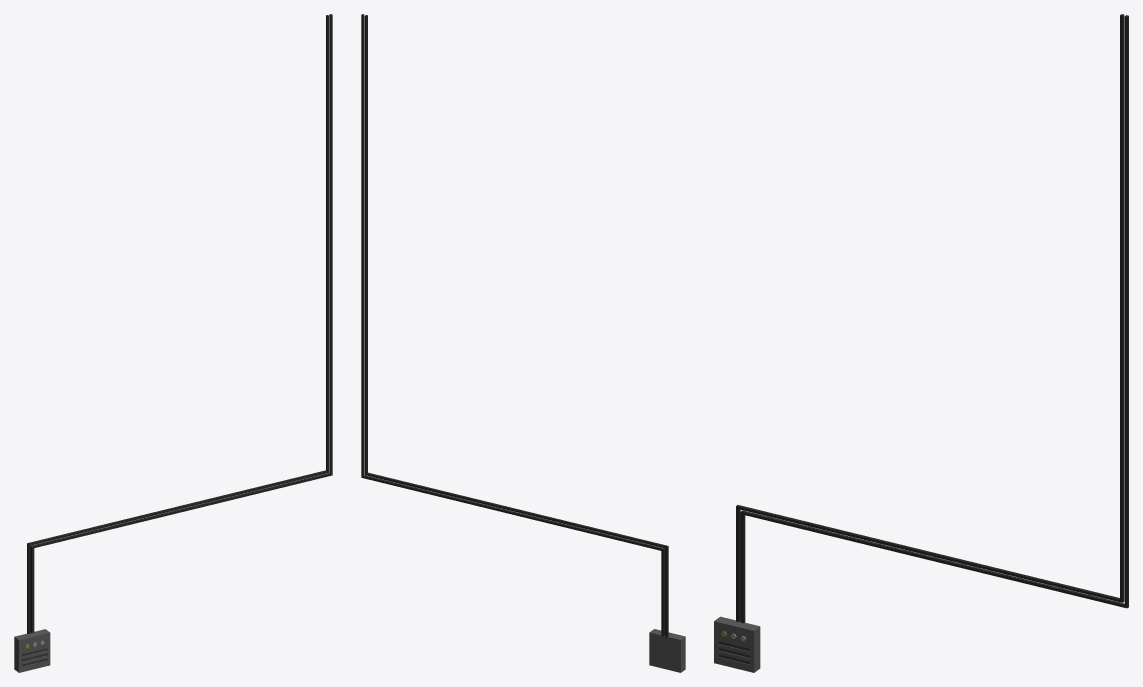
Rendered from WallDecor_02.fbx.
3 renders of one model, left to right at view 1: azimuth 30°, elevation 25°; view 2: azimuth 150°, elevation 25°; view 3: azimuth 330°, elevation 25°, orthographic. The views are drawn at different scales.
Visible parts, largest first — view 1: WallDecor_02; view 2: WallDecor_02; view 3: WallDecor_02.
Boxes of the visible parts, left/top/right/bottom form: WallDecor_02: left=14, top=14, right=332, bottom=672; WallDecor_02: left=361, top=14, right=685, bottom=672; WallDecor_02: left=714, top=14, right=1128, bottom=672.
Size of the model in its own units: 436 by 758 by 13.98.
